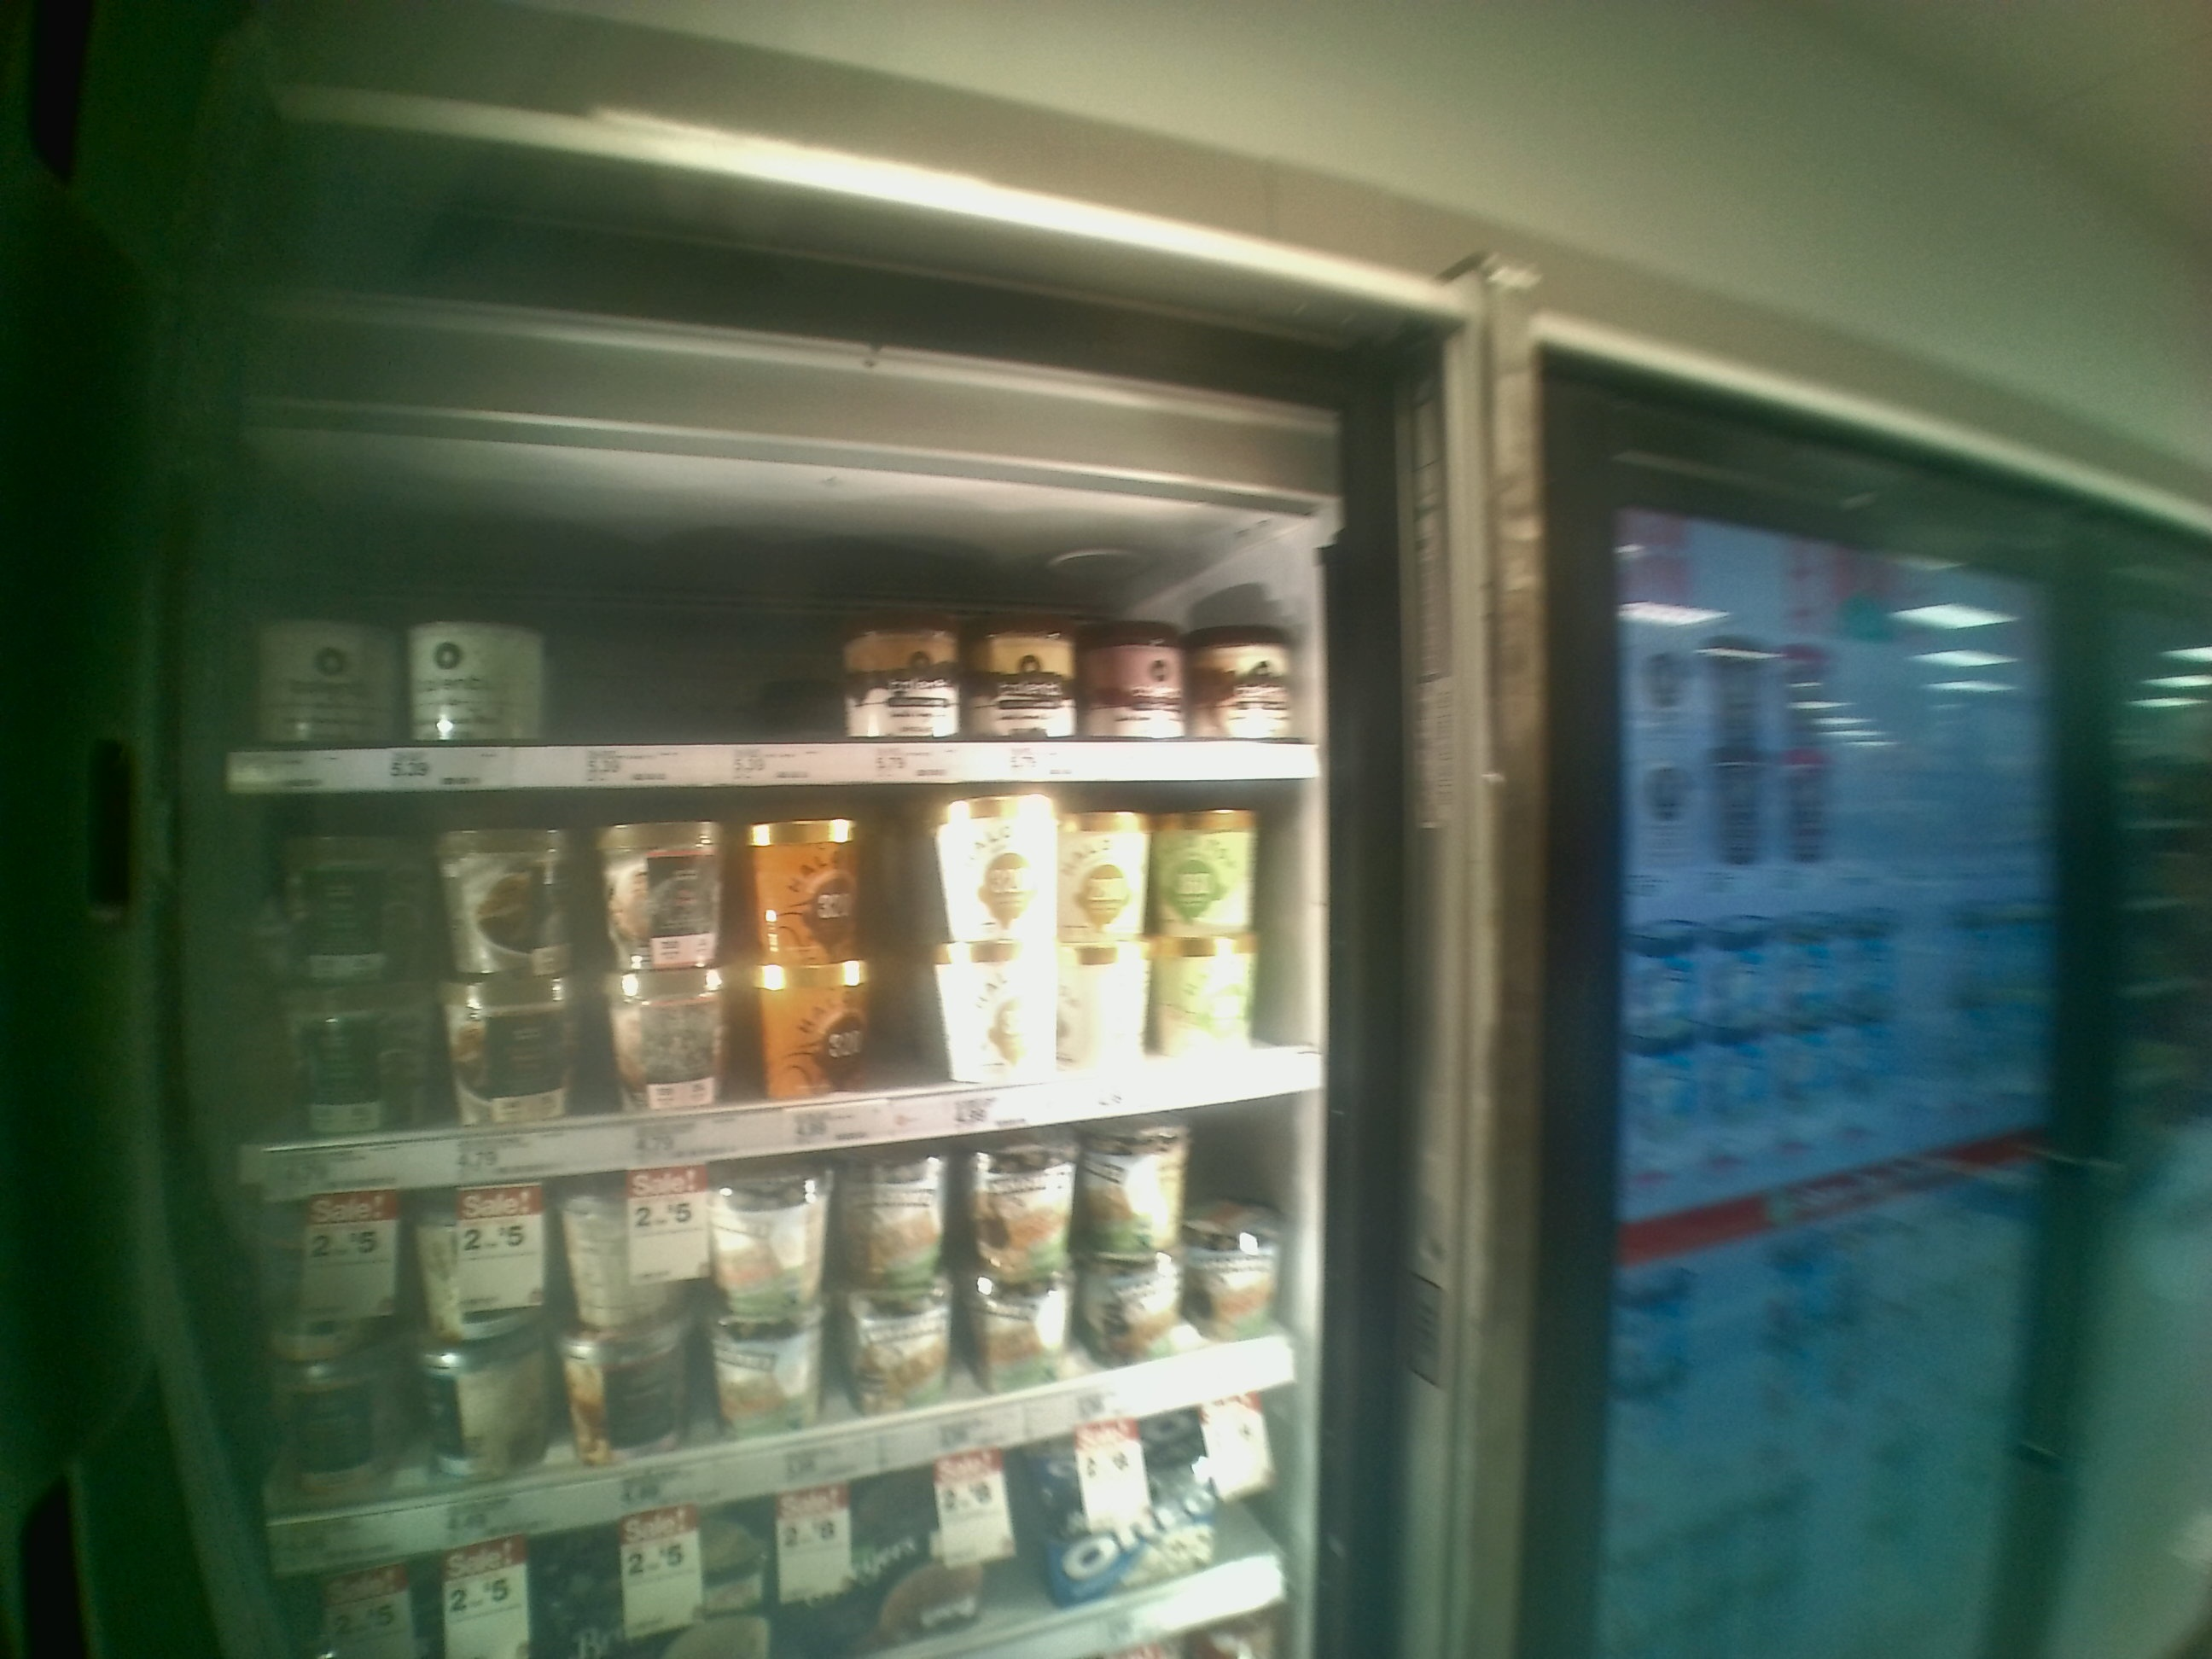shelf: (261, 1093, 1318, 1575), (206, 788, 1325, 1208), (212, 443, 1334, 784)
